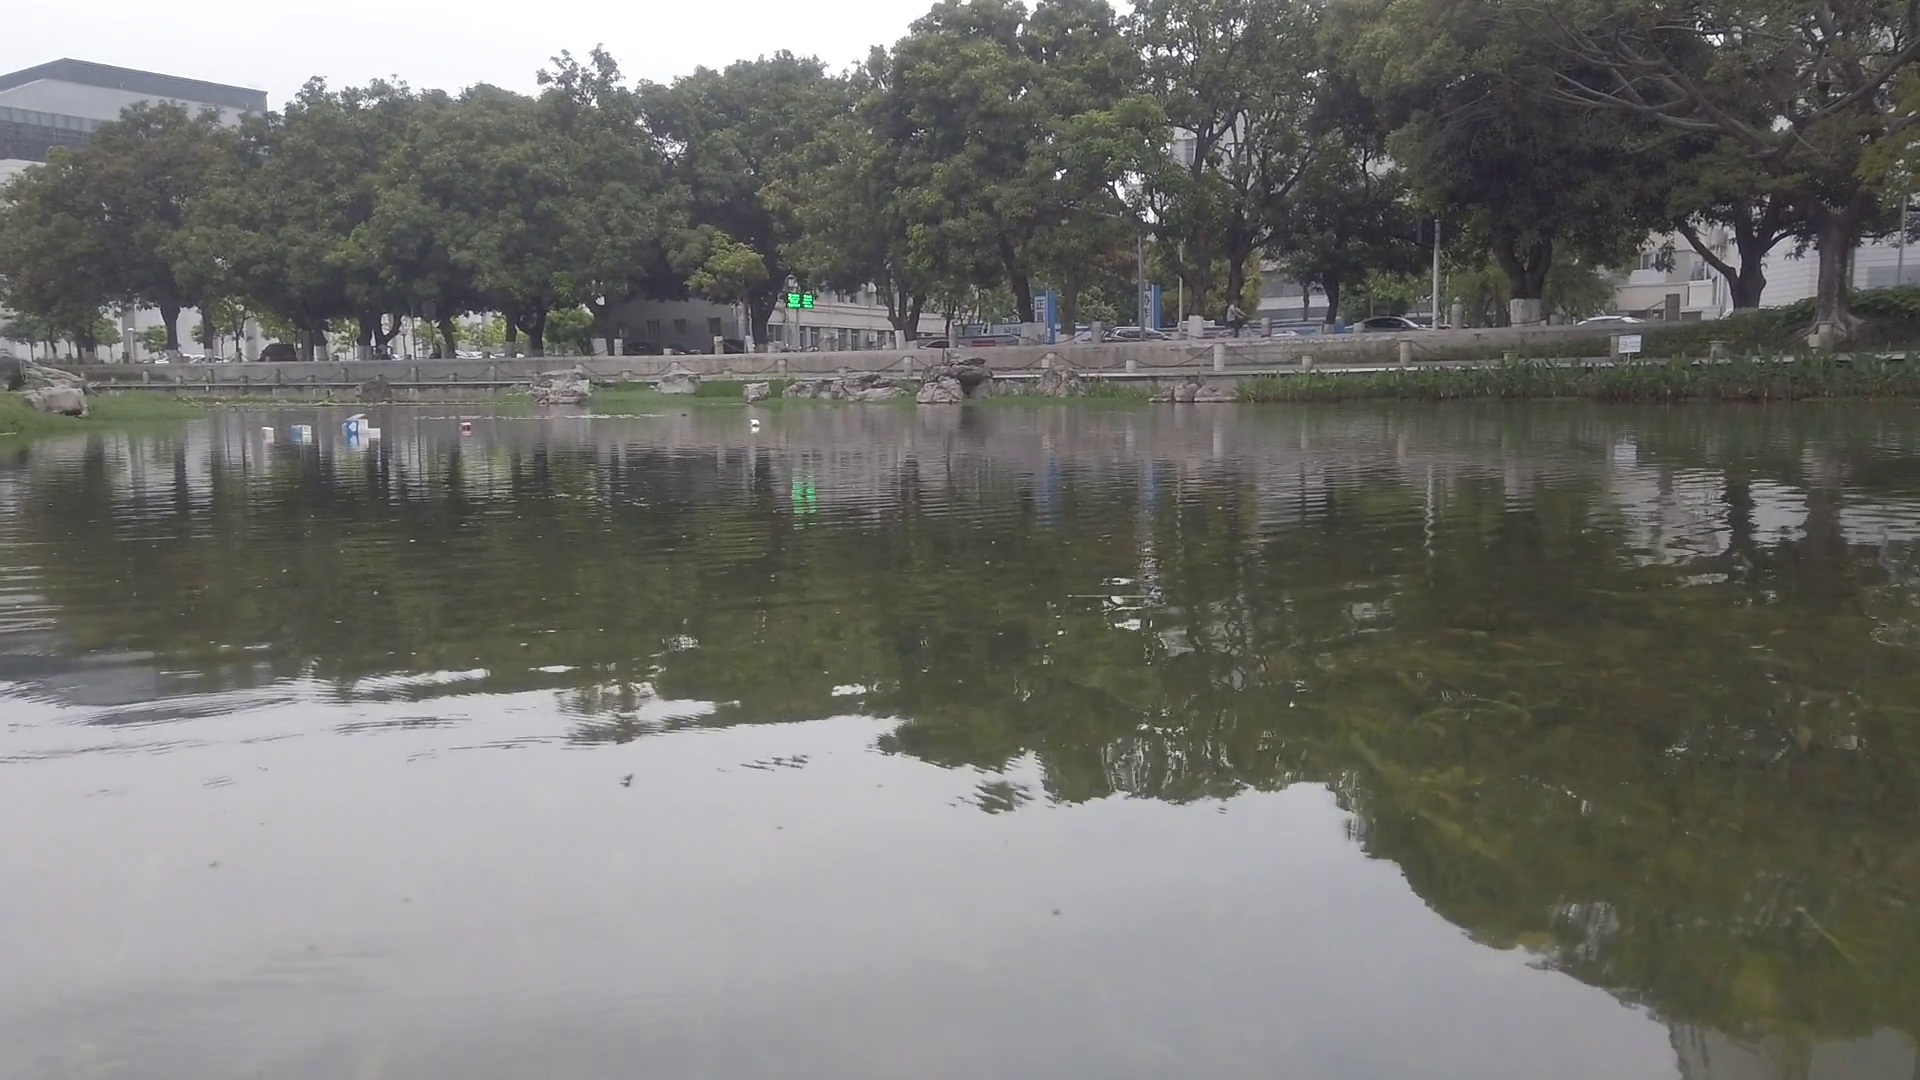bottle: (462, 423, 472, 431)
carton: (345, 411, 371, 436), (287, 422, 311, 436), (260, 425, 276, 440), (750, 419, 762, 429)
